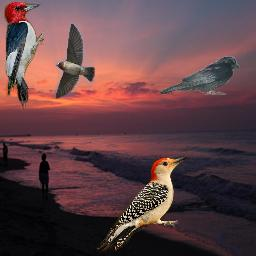Crow: (159, 56, 240, 95)
Swallow: (55, 23, 95, 99)
Woodpecker: (96, 156, 187, 254), (2, 2, 47, 112)
